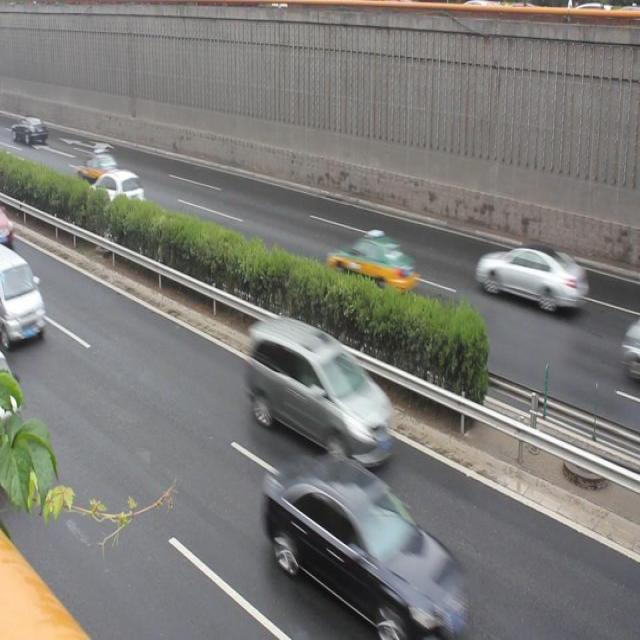car: (260, 458, 469, 630), (472, 235, 588, 318), (326, 227, 417, 299), (90, 168, 153, 220), (74, 147, 122, 182)
truck: (243, 314, 404, 462), (1, 245, 46, 348)
